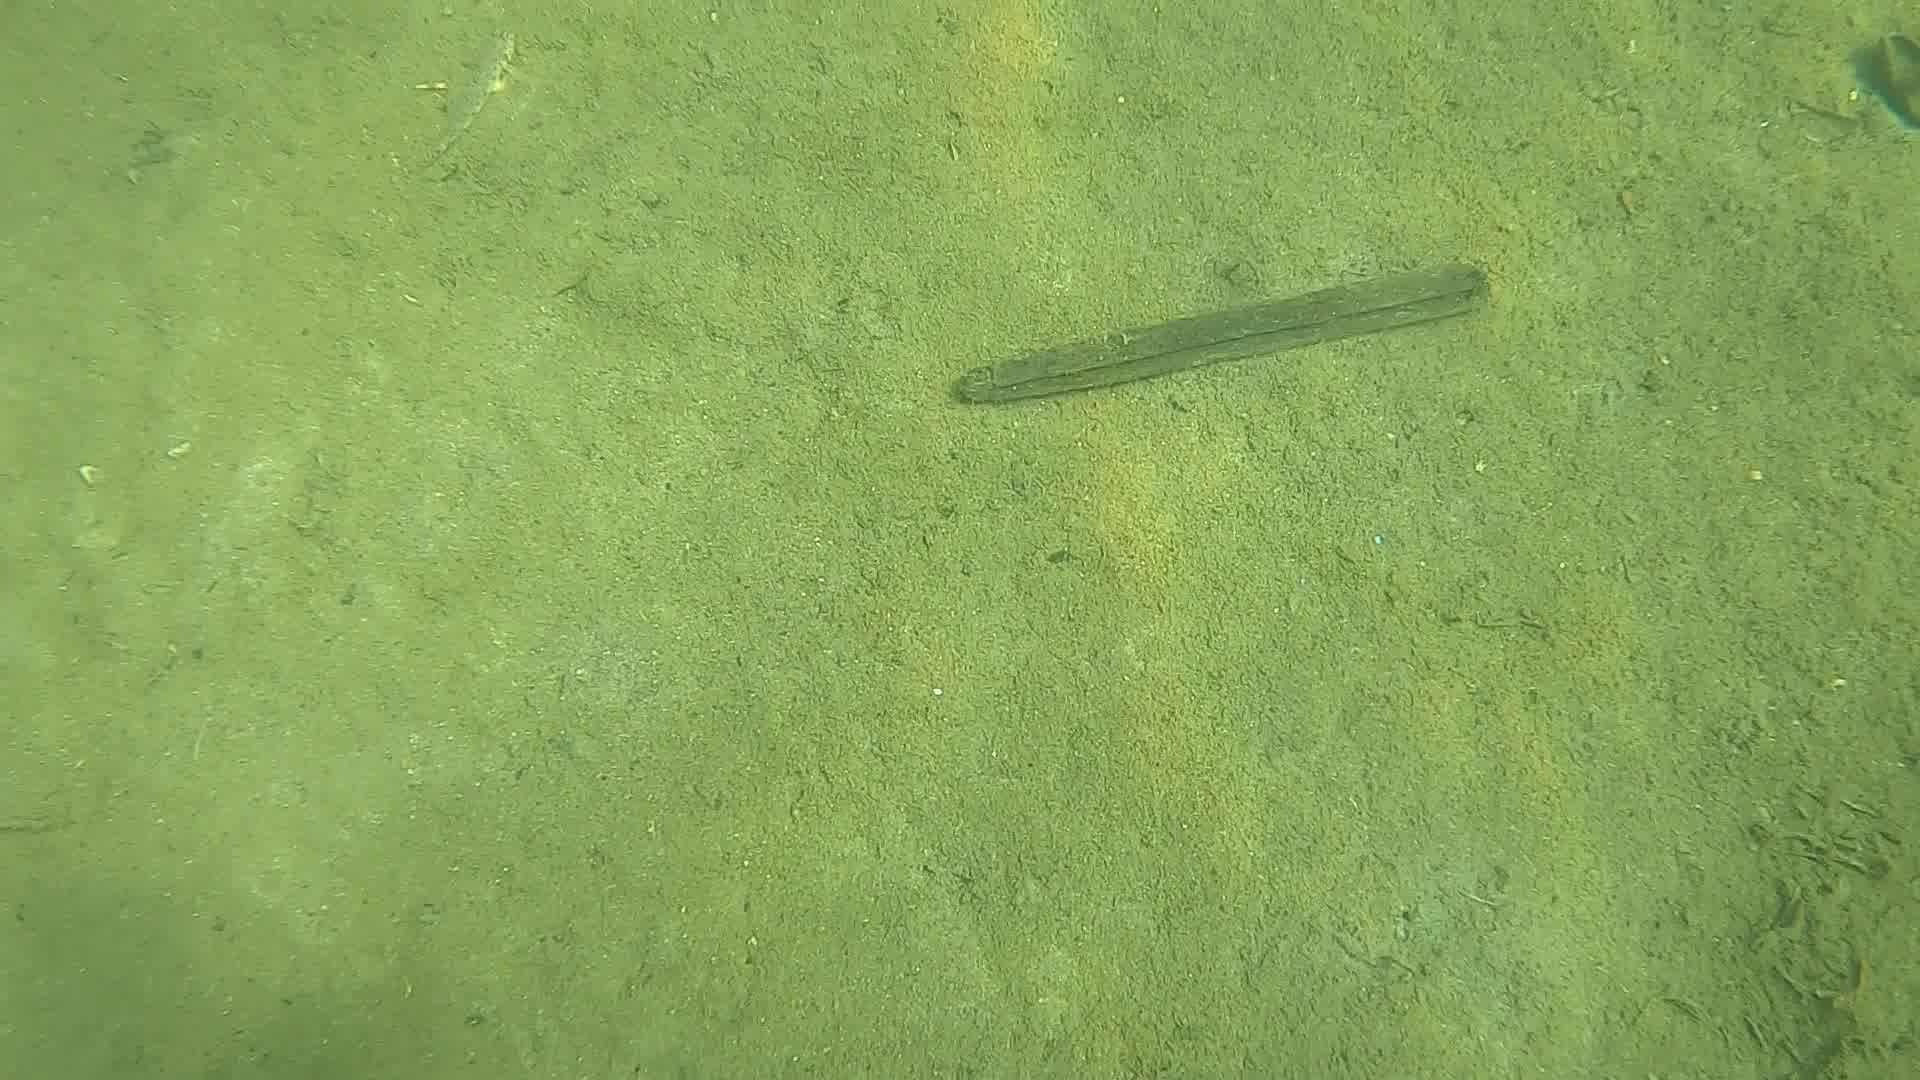wood: (957, 261, 1489, 405)
